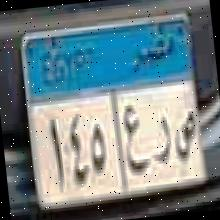1: (44, 113, 70, 193)
4: (64, 112, 90, 186)
5: (86, 116, 109, 174)
ain: (120, 104, 152, 182)
raa: (147, 110, 174, 172)
saad: (171, 108, 200, 164)
